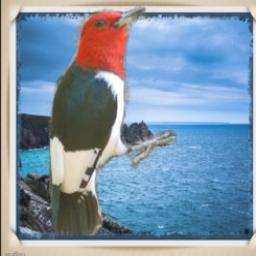Woodpecker: (47, 6, 178, 236)
